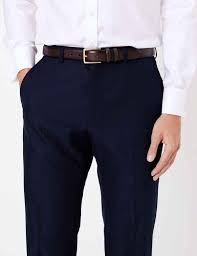F_belt: (37, 42, 165, 67)
F_dress pants: (18, 58, 165, 256)
